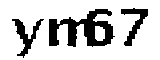6: (82, 7, 116, 51)
7: (120, 6, 149, 50)
m: (47, 16, 97, 52)
y: (11, 15, 43, 59)
